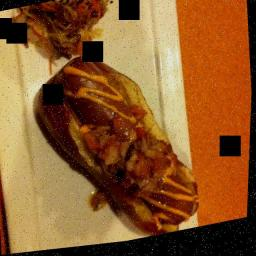hotdog: (52, 40, 202, 251)
